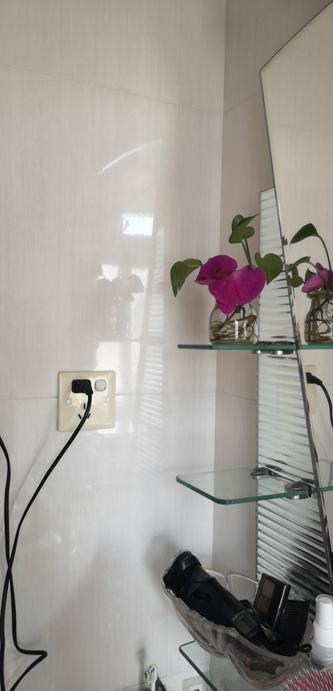switch: (92, 374, 109, 396)
